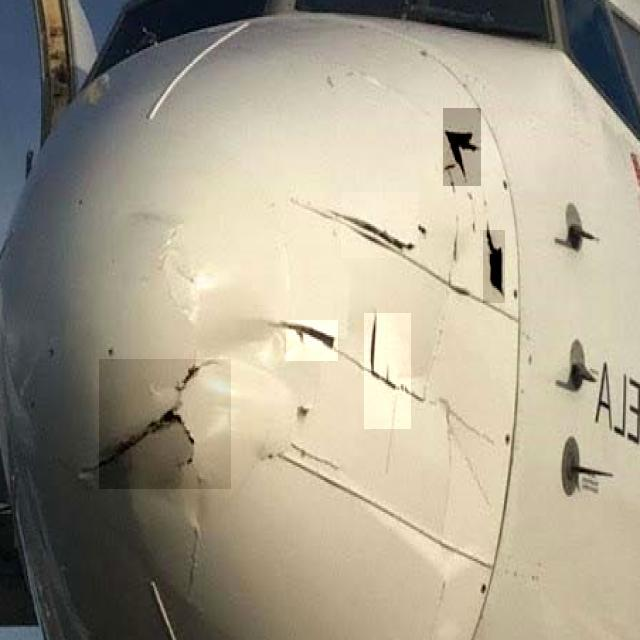crack: (100, 361, 232, 491), (365, 314, 412, 430), (342, 193, 420, 259), (445, 109, 483, 188), (287, 321, 339, 362), (484, 231, 506, 304)
